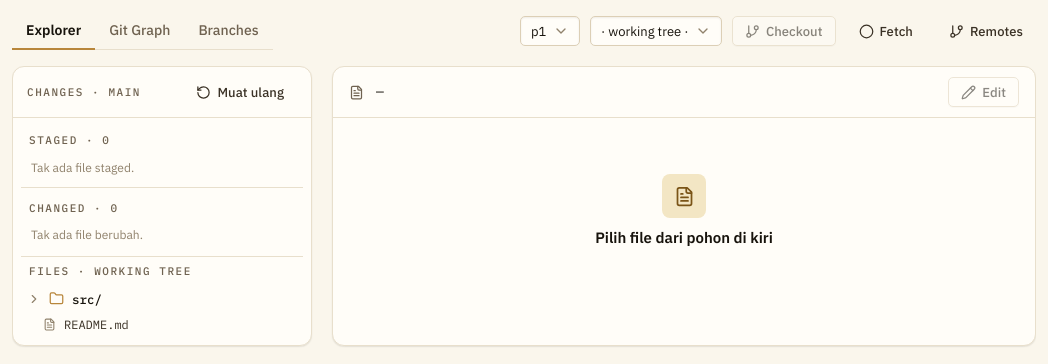
Test case: IdeScreen preview .md (SPEC-240) › memilih .md → render preview (.hn-md), bukan raw source
This screenshot has width=1048, height=364.
Click the button "README.md": click(96, 324) left=21, top=312, right=303, bottom=336
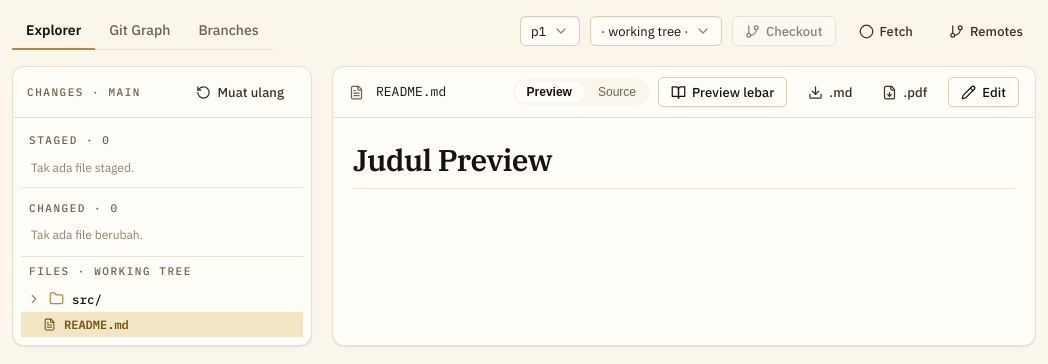
Result: the heading "Judul Preview" is shown at left=353, top=142, right=1015, bottom=189
Result: the button "Source" is shown at left=586, top=81, right=648, bottom=103
Result: the button "Preview" is shown at left=515, top=81, right=584, bottom=103
